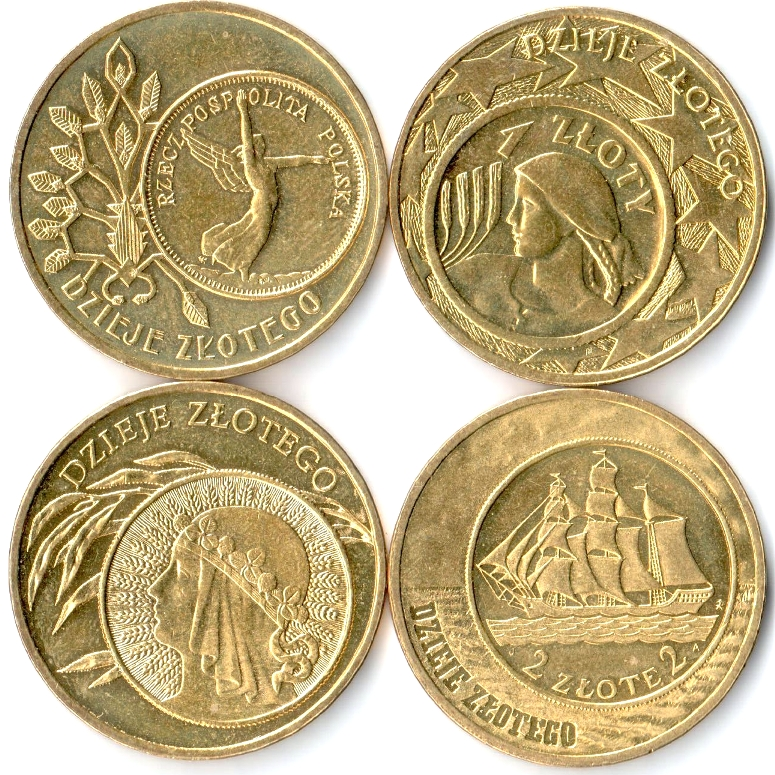coin: (1, 1, 391, 380), (388, 5, 773, 385), (1, 379, 383, 760), (398, 387, 767, 767)
